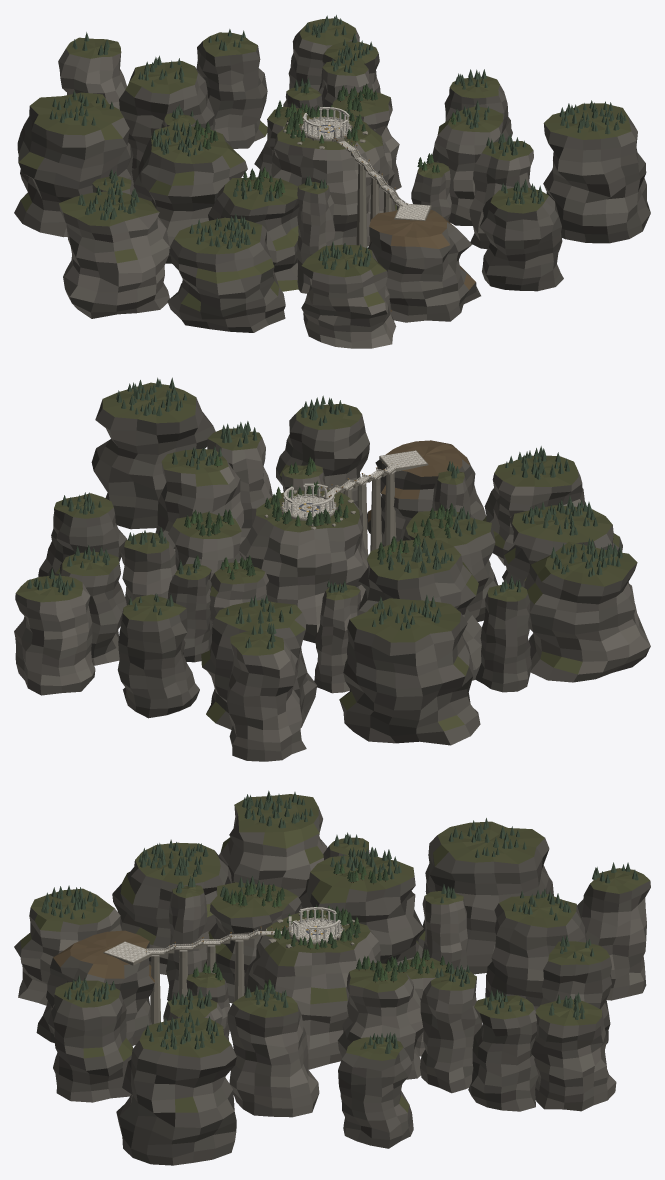
File: fog_arena_lowpoly.glb
The picture shows the model from 3 angles, top to bottom: view 1: azimuth 30°, elevation 25°; view 2: azimuth 150°, elevation 25°; view 3: azimuth 270°, elevation 25°; orthographic projection. The views are drawn at different scales.
Visible parts, largest first — view 1: VFar, VFarTrees, VIsle, VStairs, VIsleTrees, VArena, VFloor; view 2: VFar, VFarTrees, VIsle, VStairs, VIsleTrees, VArena, VFloor; view 3: VFar, VFarTrees, VIsle, VStairs, VIsleTrees, VArena, VFloor.
Part boxes in pixels (x1,y1,x2,y2): VFar: (14, 18, 650, 348); VFarTrees: (49, 15, 626, 269); VIsle: (271, 111, 396, 246); VStairs: (350, 148, 431, 247); VIsleTrees: (286, 105, 365, 143); VArena: (300, 107, 352, 142); VFloor: (303, 118, 350, 139); VFar: (14, 382, 650, 761); VFarTrees: (27, 377, 622, 649); VIsle: (239, 487, 368, 643); VStairs: (335, 450, 428, 552); VIsleTrees: (264, 481, 348, 526); VArena: (280, 483, 338, 520); VFloor: (283, 496, 335, 518); VFar: (14, 794, 650, 1165); VFarTrees: (41, 790, 638, 1053); VIsle: (244, 909, 380, 1069); VStairs: (103, 929, 258, 1024); VIsleTrees: (273, 904, 360, 949); VArena: (286, 907, 344, 944); VFloor: (291, 920, 341, 941).
Bounding box in the file's own units: 790 × 166 × 748.
